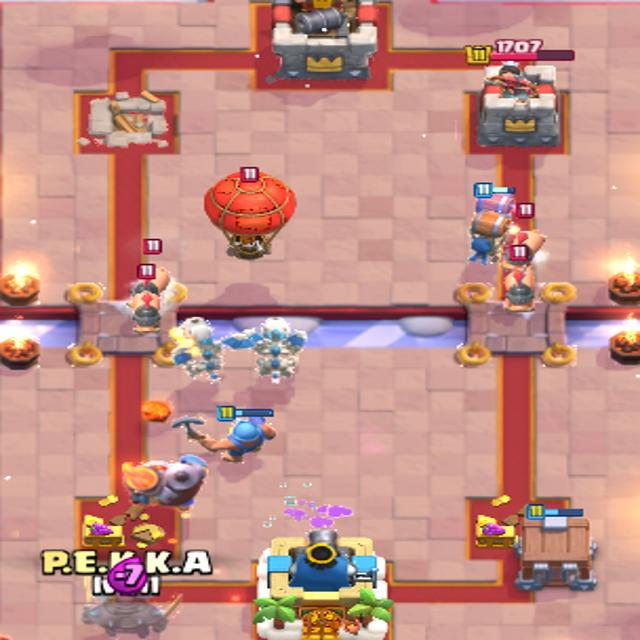EBalloon: (205, 167, 296, 259)
EKingTower: (266, 0, 376, 81)
ERoyalHog: (503, 266, 543, 318), (505, 230, 545, 266), (129, 290, 161, 333), (131, 263, 171, 293)
EnemyPrincessTower: (477, 61, 560, 146)
OFisherman: (172, 406, 276, 462)
OFurnace: (123, 455, 207, 508)
OGoblinCage: (515, 503, 596, 590)
OWallBreak: (469, 211, 508, 263), (474, 183, 514, 215)
OwnKingTower: (253, 529, 386, 639)
TowerDown: (466, 496, 570, 559), (75, 91, 178, 152), (76, 498, 179, 553)
